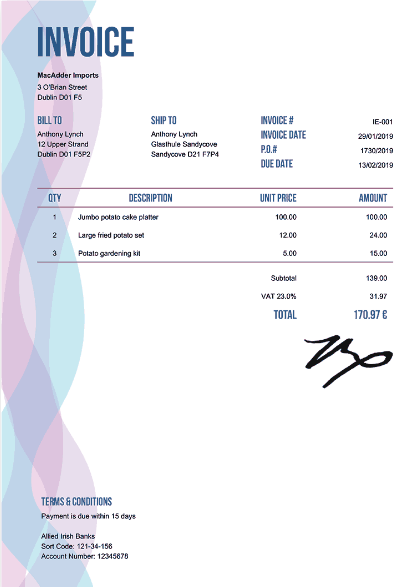Table: (31, 182, 409, 333)
